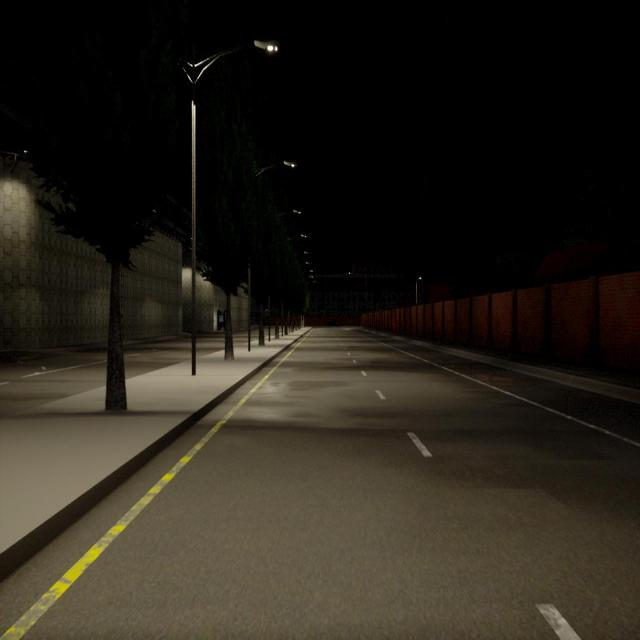Pedestrian: (392, 313, 396, 334)
